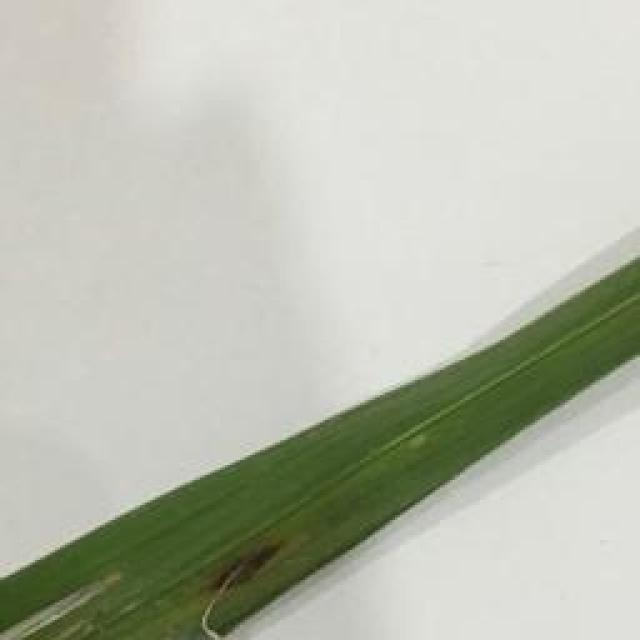Bacterial_Blight: (408, 437, 423, 456)
Brown_Spot: (215, 542, 285, 590)
